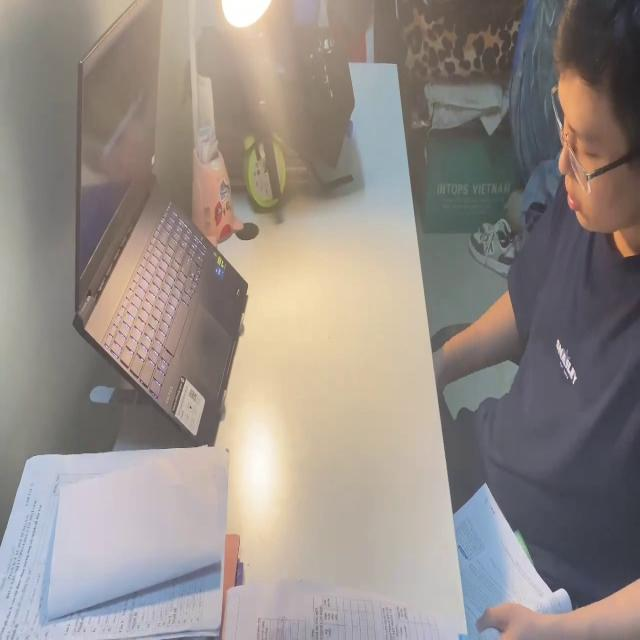book: (3, 446, 238, 640), (453, 482, 573, 640), (219, 573, 433, 640)
laptop: (71, 0, 250, 444)
student: (431, 0, 640, 640)
